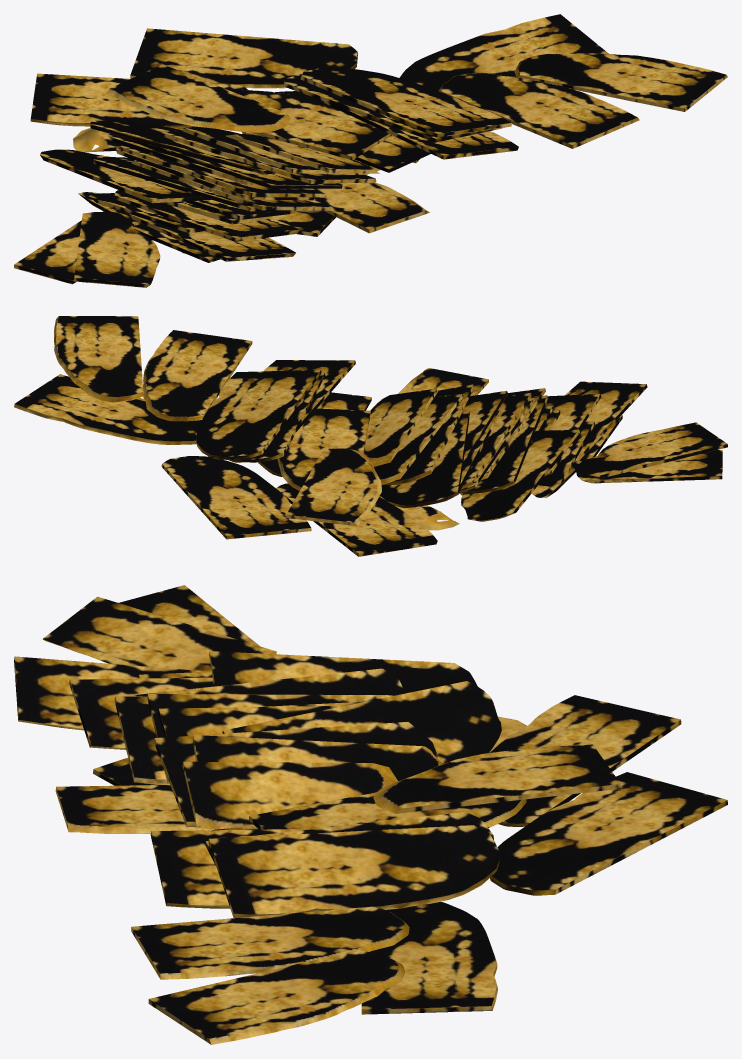
Rendered from Carved_Zucchini_with_Zucchini_and_Yellow_pepper.obj.
The picture shows the model from 3 angles, top to bottom: view 1: azimuth 30°, elevation 25°; view 2: azimuth 150°, elevation 25°; view 3: azimuth 270°, elevation 25°; orthographic projection. The views are drawn at different scales.
Parts seen in each view (by area): view 1: Carved_Zucchini_with_Zucchini_and_Yellow_pepper_potato.042; view 2: Carved_Zucchini_with_Zucchini_and_Yellow_pepper_potato.042; view 3: Carved_Zucchini_with_Zucchini_and_Yellow_pepper_potato.042.
Part boxes in pixels (left/top/right/bottom): Carved_Zucchini_with_Zucchini_and_Yellow_pepper_potato.042: left=14, top=14, right=727, bottom=287; Carved_Zucchini_with_Zucchini_and_Yellow_pepper_potato.042: left=14, top=316, right=727, bottom=556; Carved_Zucchini_with_Zucchini_and_Yellow_pepper_potato.042: left=14, top=585, right=727, bottom=1044.
Bounding box in the file's own units: 3.47 × 0.2029 × 2.25.
1 material, 1 textured.
